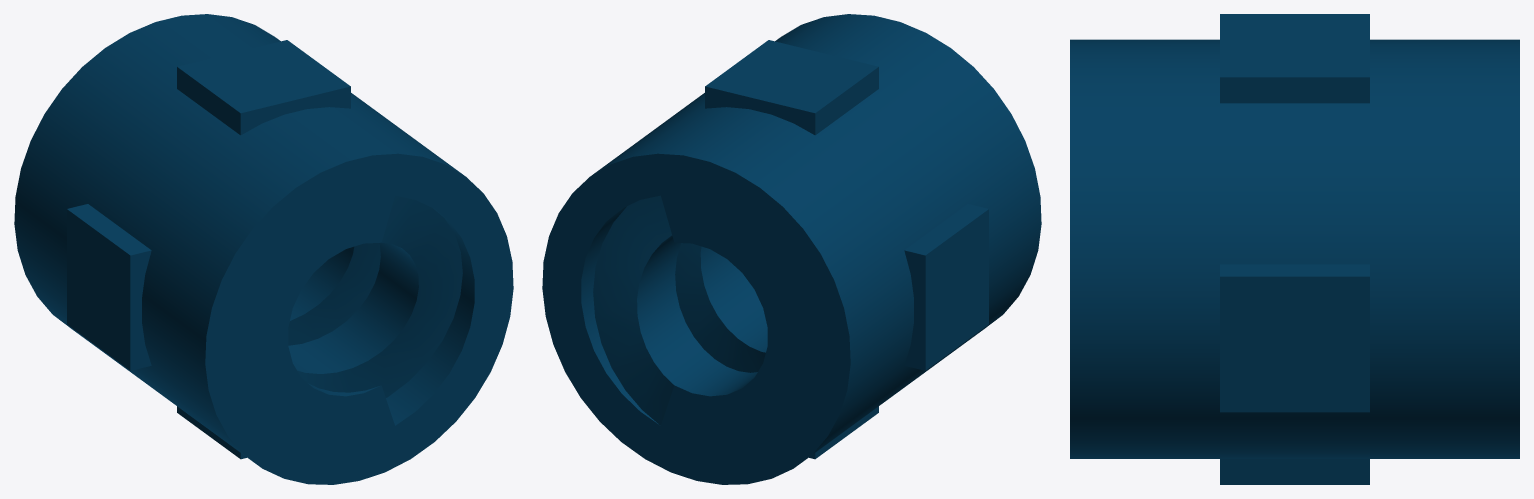
File: linear-nut.glb
3 views of the same model, side by side, from view 1: azimuth 30°, elevation 25°; view 2: azimuth 150°, elevation 25°; view 3: azimuth 270°, elevation 25° (orthographic). The views are drawn at different scales.
Parts seen in each view (by area): view 1: Body1; view 2: Body1; view 3: Body1.
Part boxes in pixels (<box>): Body1: <box>14,14,513,484</box>; Body1: <box>542,14,1041,484</box>; Body1: <box>1070,14,1519,484</box>.
Size of the model in its own units: 0.3 by 0.3 by 0.3.
